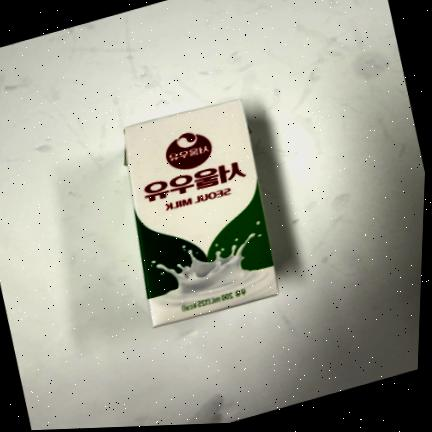milk_green: (122, 98, 278, 327)
